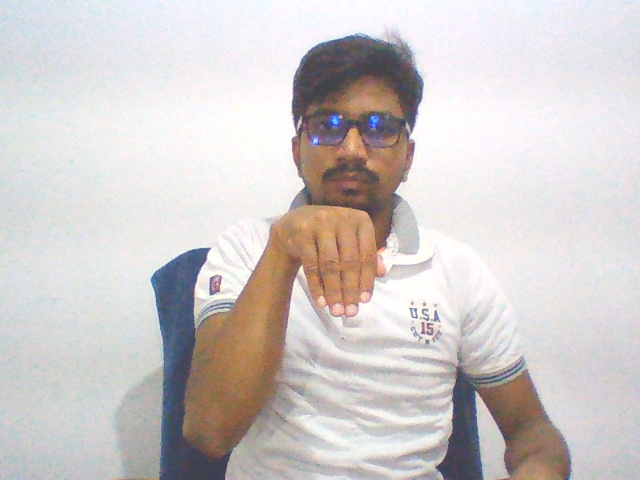Squirrel: (264, 197, 390, 325)
